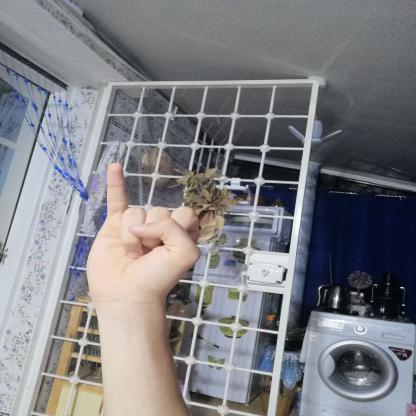MEEM: (72, 154, 214, 318)
